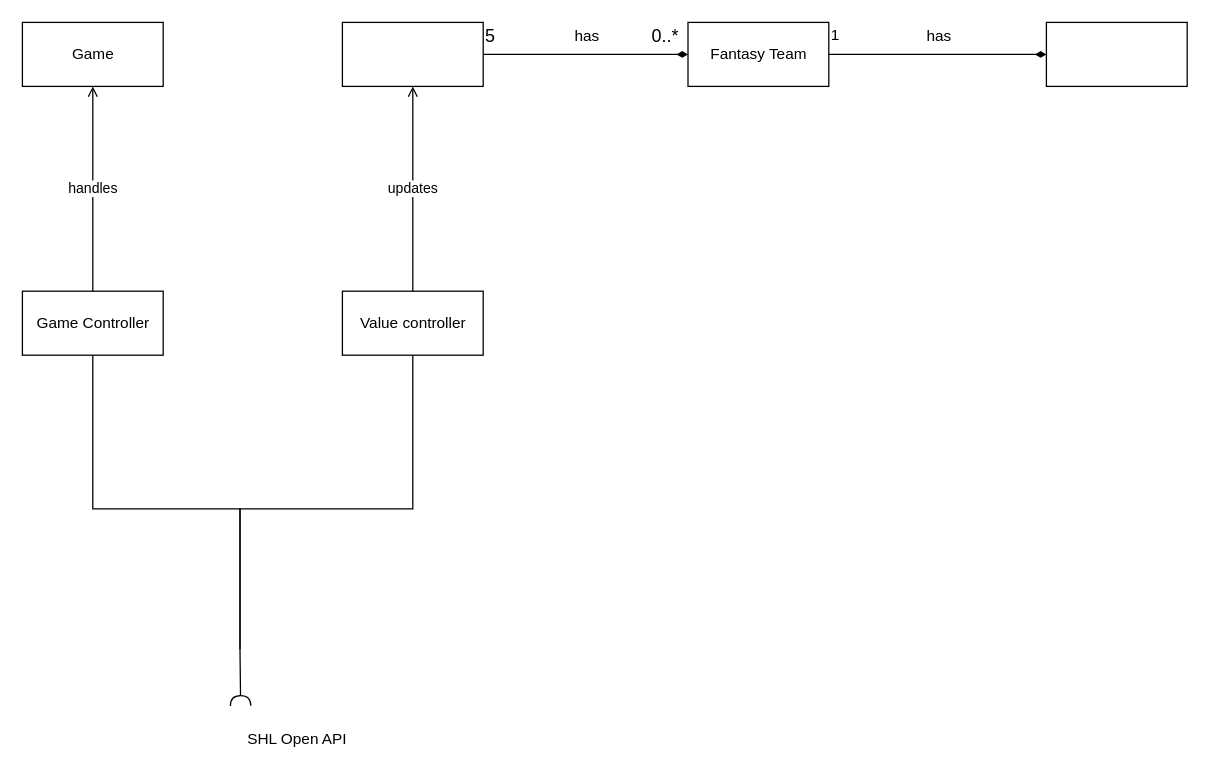
Some shapes in this 1210 by 774 pixel diagram are drawn without their labels. Here are the shapes that lost their labels. From the top down, the centre of each, then its label:
At (412,53): "Player".
At (1116,53): "User".
